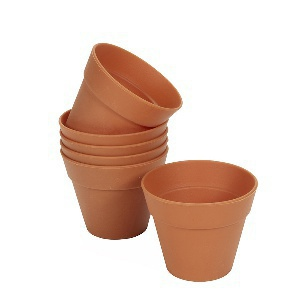flowerpot: (139, 158, 261, 283), (56, 123, 171, 244), (66, 36, 184, 140)
